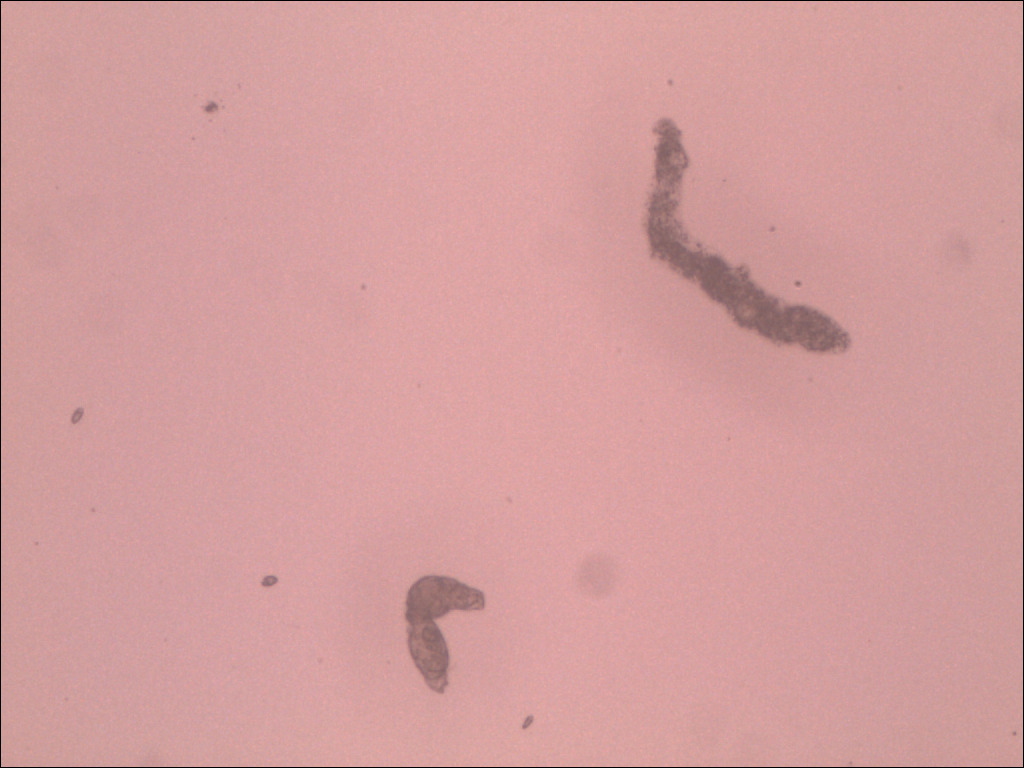amoeba: (635, 106, 870, 372)
